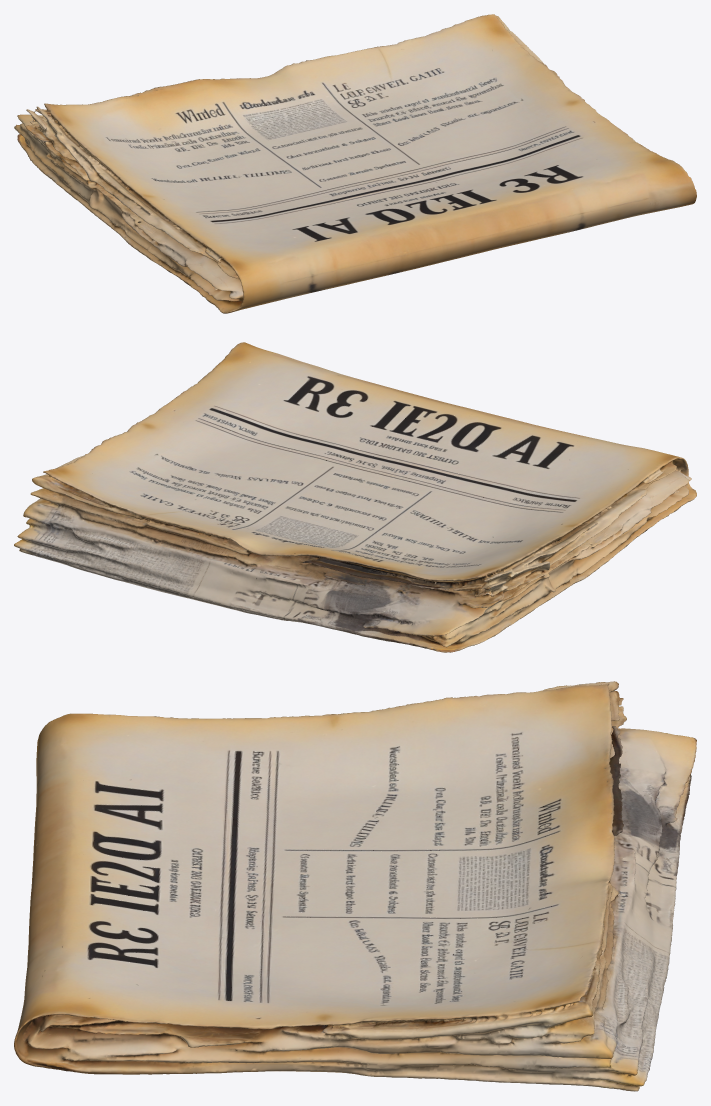
File: Meshy_AI_a_folded_1800s_newspa_0524033942_texture.fbx
The picture shows the model from 3 angles, top to bottom: view 1: azimuth 30°, elevation 25°; view 2: azimuth 150°, elevation 25°; view 3: azimuth 270°, elevation 25°; orthographic projection. The views are drawn at different scales.
Visible parts, largest first — view 1: Mesh_0; view 2: Mesh_0; view 3: Mesh_0.
Part boxes in pixels (left/top/right/bottom): Mesh_0: left=14, top=14, right=696, bottom=313; Mesh_0: left=14, top=342, right=696, bottom=652; Mesh_0: left=14, top=681, right=696, bottom=1091.
Bounding box in the file's own units: 200 × 30.8 × 181.
1 material, 1 textured.
